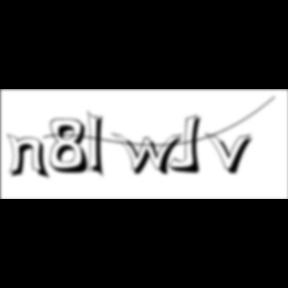8: (50, 117, 96, 176)
J: (168, 114, 208, 176)
l: (88, 108, 112, 182)
n: (7, 132, 54, 181)
v: (205, 131, 259, 177)
w: (112, 132, 190, 178)
